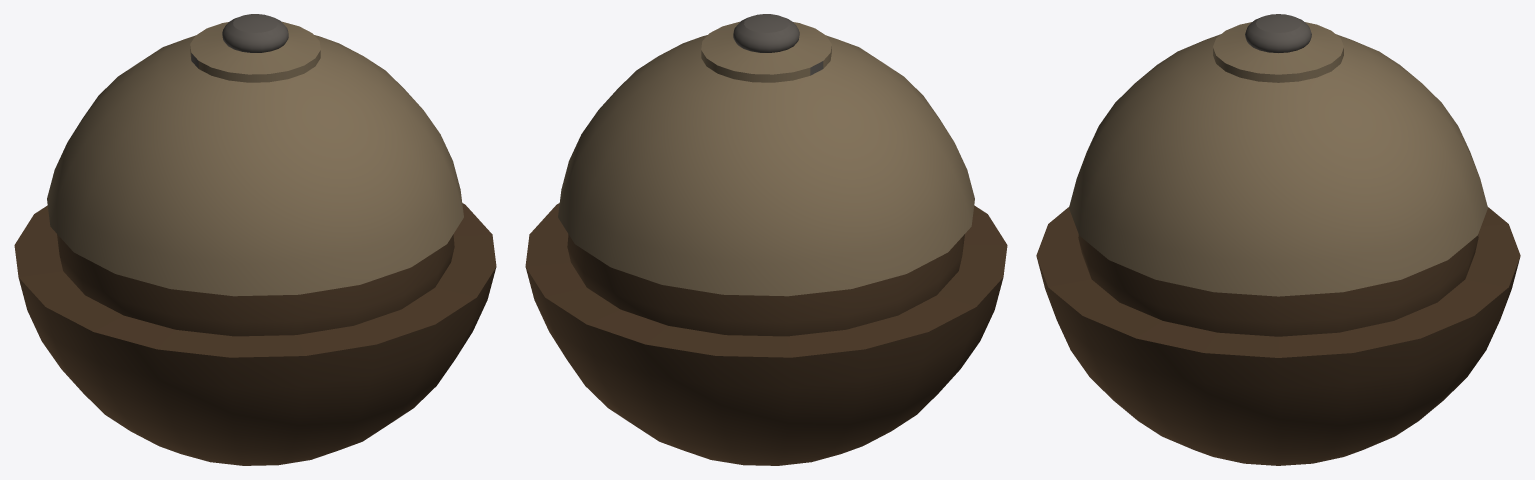
Rendered from ShortSphere.fbx.
The picture shows the model from 3 angles, left to right: view 1: azimuth 30°, elevation 25°; view 2: azimuth 150°, elevation 25°; view 3: azimuth 270°, elevation 25°; orthographic projection.
Visible parts, largest first — view 1: polySurface35; view 2: polySurface35; view 3: polySurface35.
Part boxes in pixels (box(x1,y1,x2,y2)): polySurface35: box(14, 14, 496, 465); polySurface35: box(525, 14, 1007, 465); polySurface35: box(1036, 14, 1520, 465).
Size of the model in its own units: 6.33 by 6.1 by 6.33.
